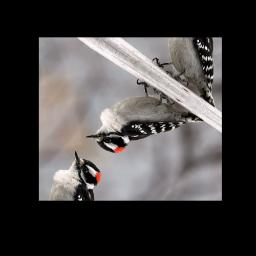Woodpecker: (83, 70, 205, 185)
